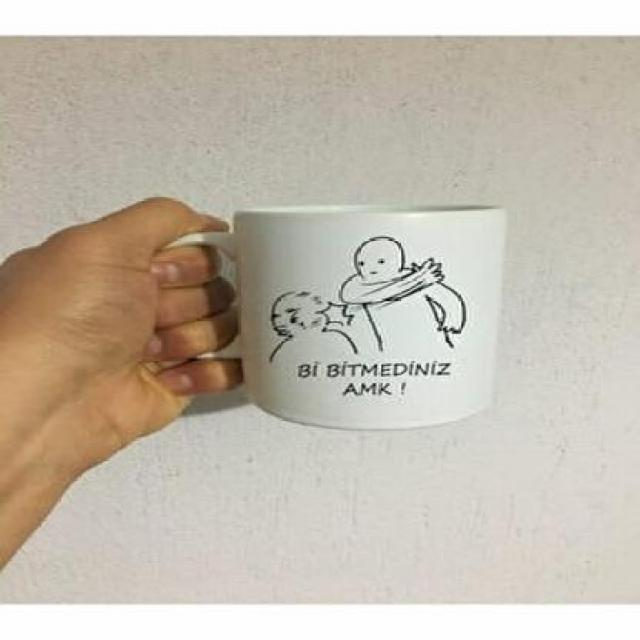taza: (150, 203, 513, 432)
